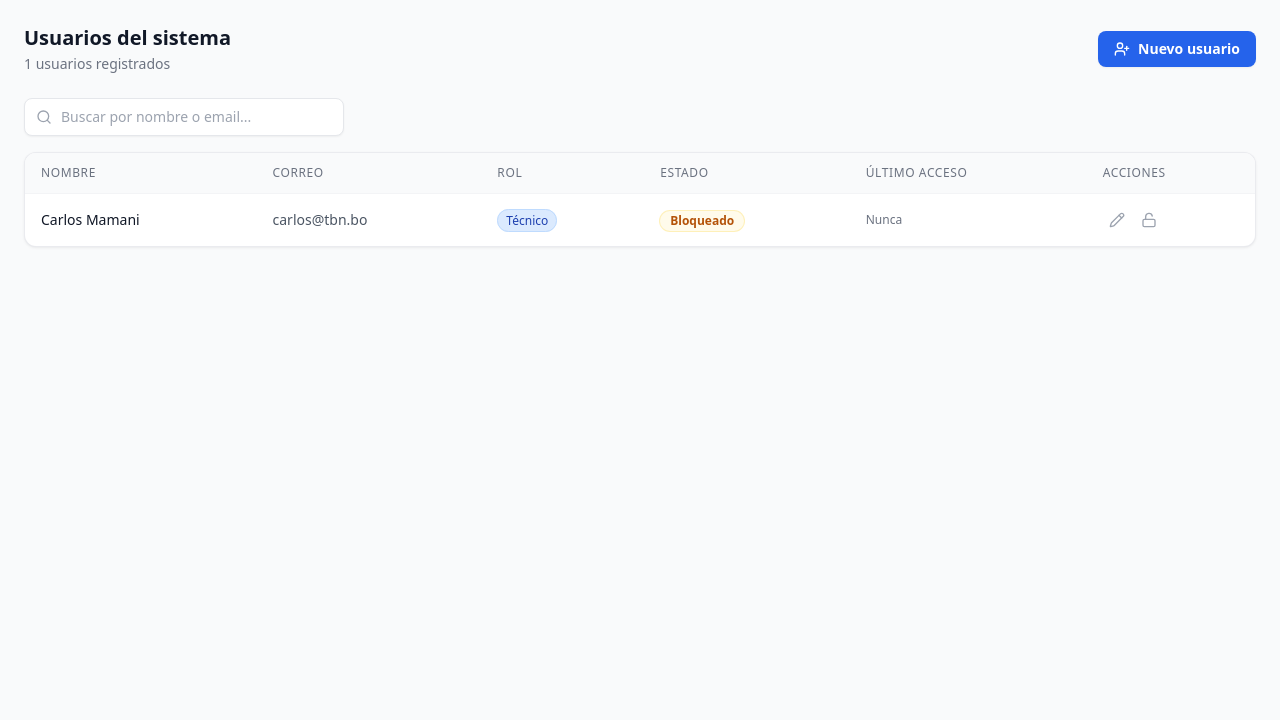
Test: UsersPage — TC-FE-USR-01 a TC-FE-USR-07 (red de seguridad refactor C4) › TC-FE-USR-07 — si una acción rápida falla, el error es VISIBLE en la página
Check: the text "Carlos Mamani" is shown, box [41,210,140,229]
Click the button titled "Desbloquear": (1149, 220) [1135,206,1163,234]
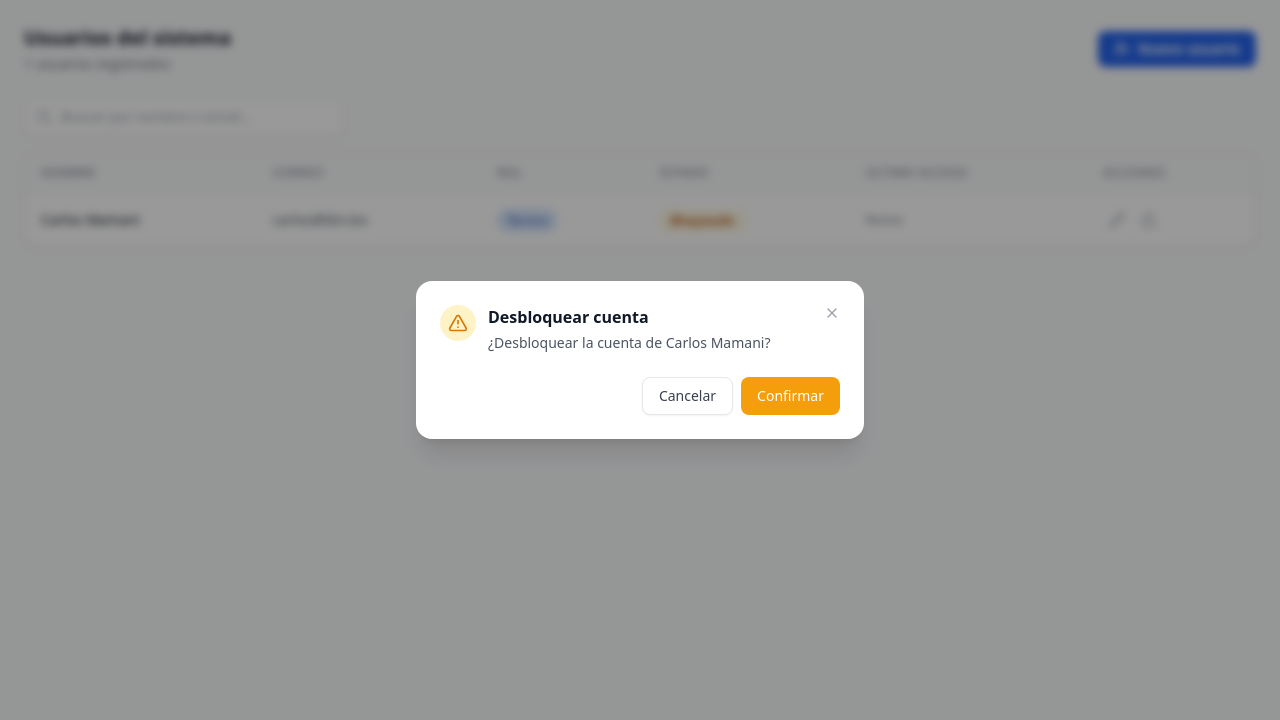
Check: the heading "Desbloquear cuenta" is shown, box [488,306,649,328]
Click the button "Confirmar": (791, 396) [741,377,840,415]
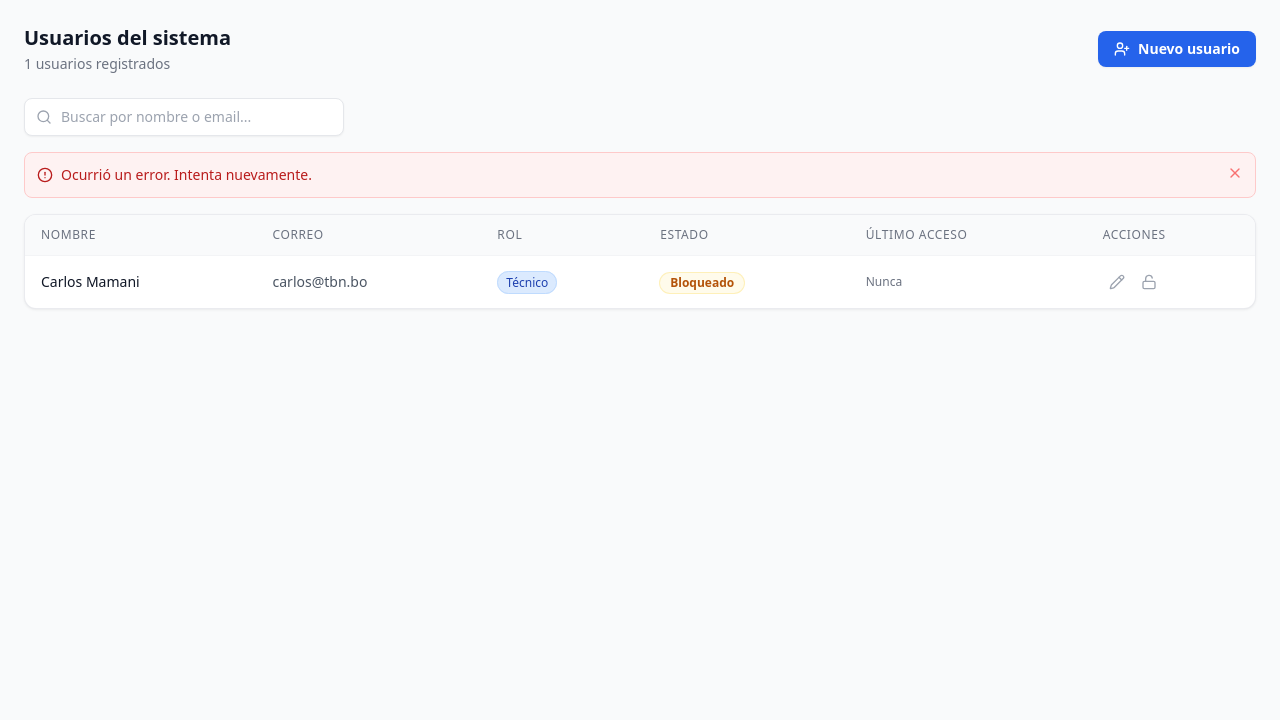
Check: the text "Ocurrió un error. Intenta nuevamente." is shown, box [61,165,312,184]
